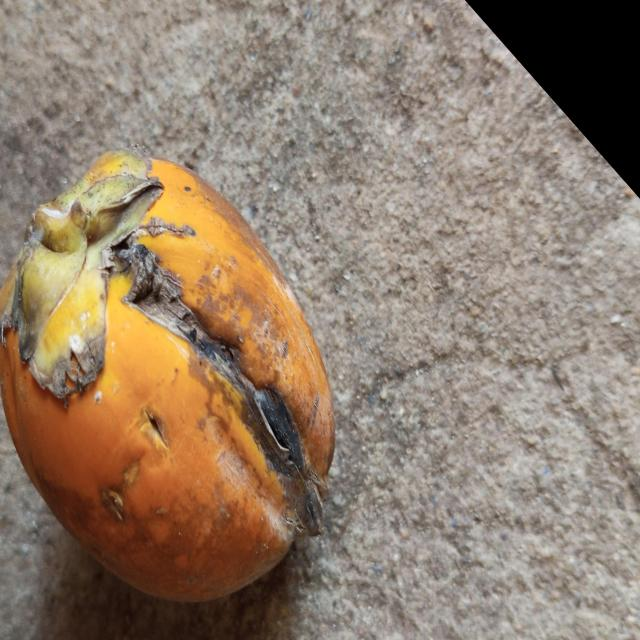damaged: (0, 149, 335, 601)
